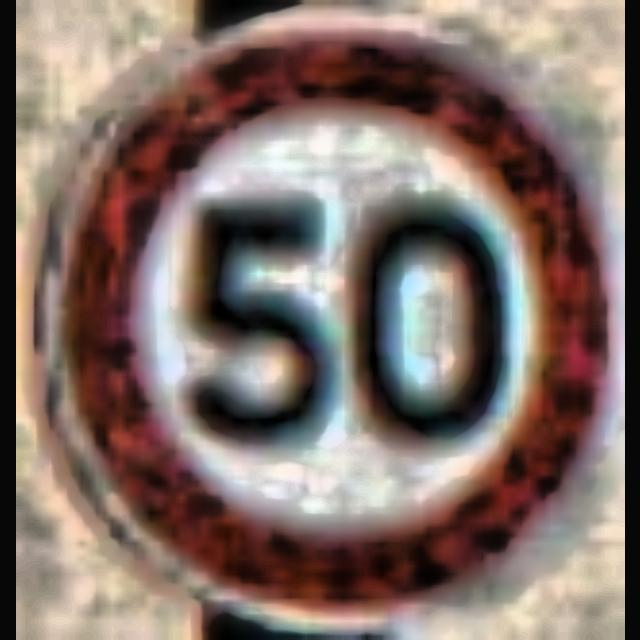speed_50: (16, 0, 624, 632)
